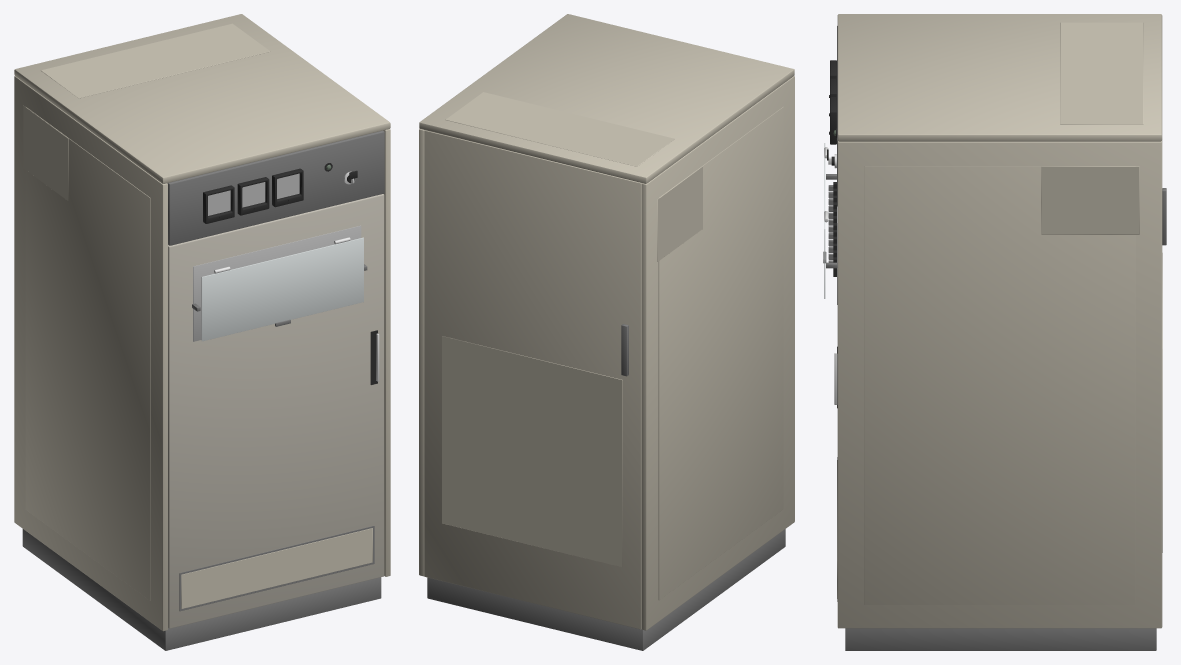
Rendered from Kit_SystemCabinet_PDU_Off.fbx.
3 renders of one model, left to right at view 1: azimuth 30°, elevation 25°; view 2: azimuth 150°, elevation 25°; view 3: azimuth 270°, elevation 25°, orthographic. The views are drawn at different scales.
Visible parts, largest first — view 1: Kit_SystemCabinet_PDU_LOD0; view 2: Kit_SystemCabinet_PDU_LOD0; view 3: Kit_SystemCabinet_PDU_LOD0.
Part boxes in pixels (left/top/right/bottom): Kit_SystemCabinet_PDU_LOD0: left=14, top=14, right=390, bottom=650; Kit_SystemCabinet_PDU_LOD0: left=419, top=14, right=794, bottom=650; Kit_SystemCabinet_PDU_LOD0: left=823, top=14, right=1166, bottom=650.
Size of what is drawn, in the model's own units: 0.7671 by 1.52 by 0.91.
